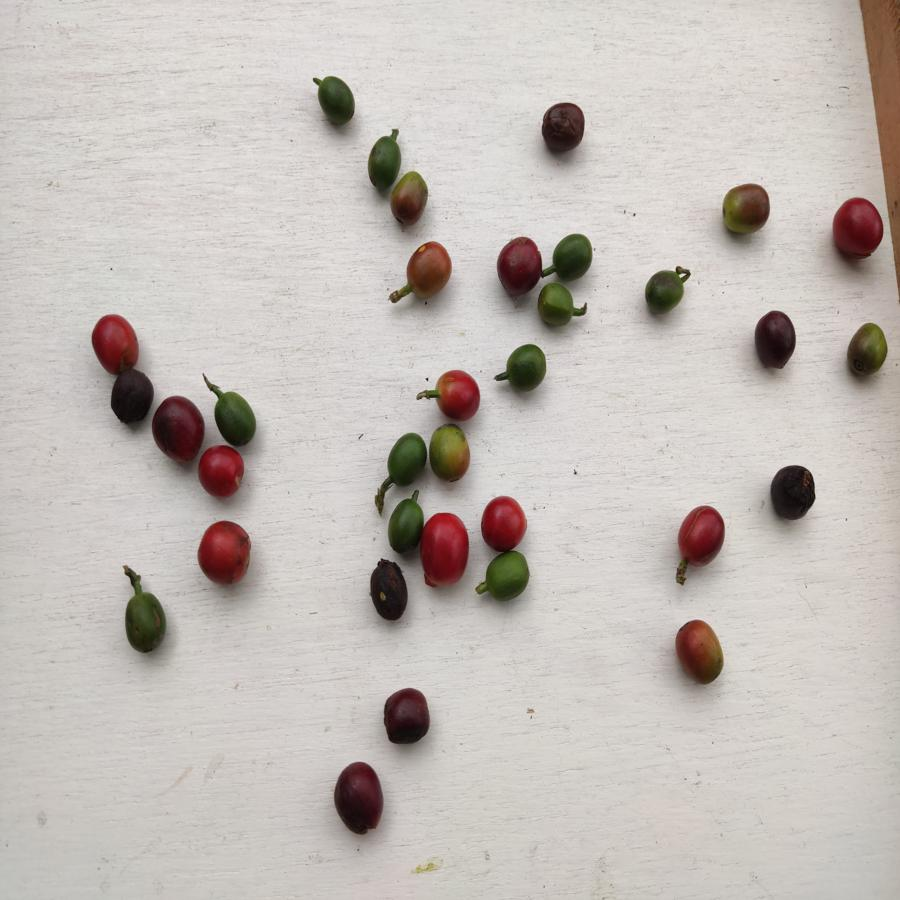Inmaduro: (120, 589, 171, 655), (311, 73, 361, 130), (213, 388, 258, 446), (482, 551, 532, 602), (383, 431, 428, 487), (384, 495, 422, 557), (643, 269, 688, 316), (508, 342, 547, 393), (364, 136, 400, 188), (553, 235, 593, 281), (537, 283, 576, 325)
Maduro: (421, 509, 471, 591), (196, 518, 253, 585), (86, 310, 145, 370), (832, 196, 886, 261), (676, 501, 729, 567), (478, 493, 530, 552), (430, 368, 482, 423), (196, 445, 246, 499)
Pinton: (673, 618, 732, 688), (718, 183, 773, 238), (403, 240, 453, 298), (844, 317, 889, 379), (429, 423, 473, 484), (390, 172, 432, 224)
Sobremaduro: (331, 761, 387, 837), (379, 684, 431, 748), (153, 396, 202, 461), (768, 463, 819, 524), (494, 235, 543, 298), (750, 308, 798, 371), (366, 558, 410, 623), (538, 99, 586, 155), (109, 370, 154, 423)
